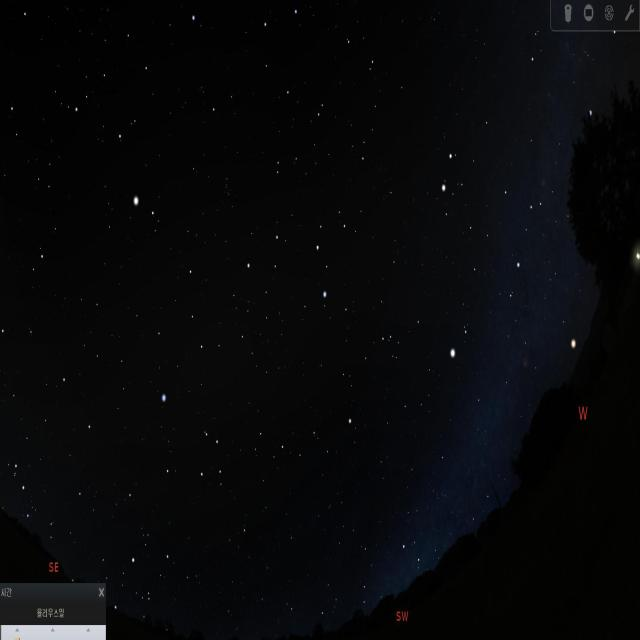bootes: (93, 21, 169, 228)
canis_minor: (444, 313, 480, 379)
gemini: (432, 132, 540, 280)
leo: (241, 192, 366, 314)
